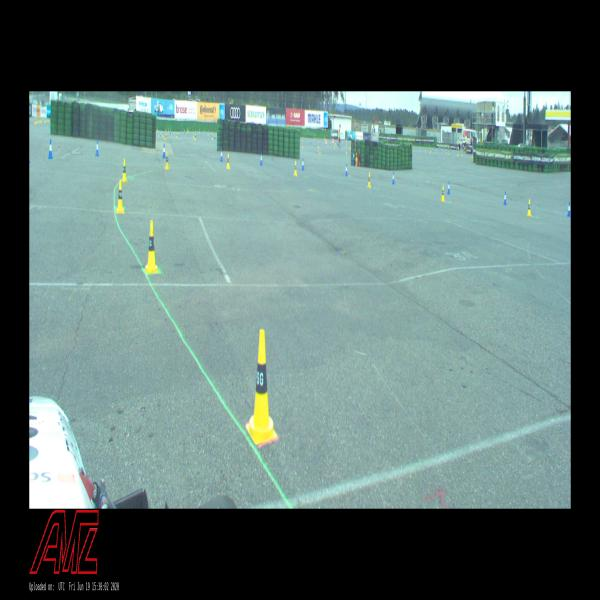blue_cone: (48, 139, 53, 158), (95, 139, 99, 156), (567, 202, 571, 216), (162, 144, 166, 157), (447, 181, 450, 194), (220, 149, 223, 161), (345, 164, 348, 175), (504, 191, 506, 204), (392, 172, 394, 183), (302, 158, 304, 169), (260, 154, 262, 164)
yellow_cone: (246, 329, 277, 444), (144, 220, 158, 274), (116, 180, 124, 213), (121, 159, 128, 183), (527, 199, 531, 216), (165, 152, 169, 169), (441, 185, 445, 201), (367, 173, 371, 188), (226, 153, 230, 168), (294, 161, 297, 176)
